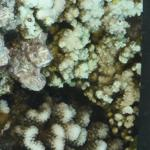alive: (5, 2, 142, 147)
